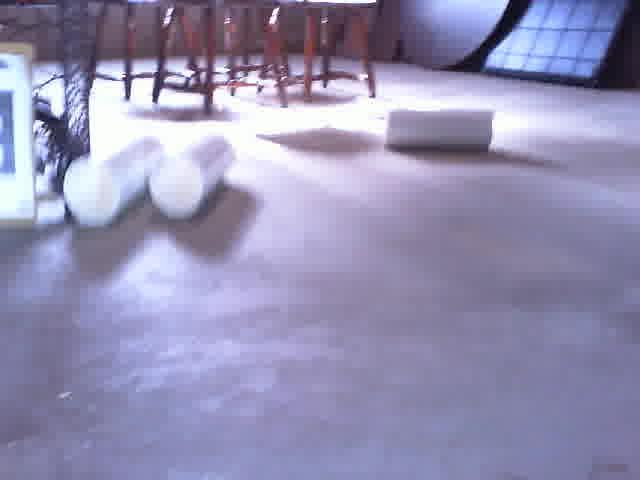coral: (61, 132, 169, 235), (148, 133, 237, 222), (380, 104, 501, 155)
